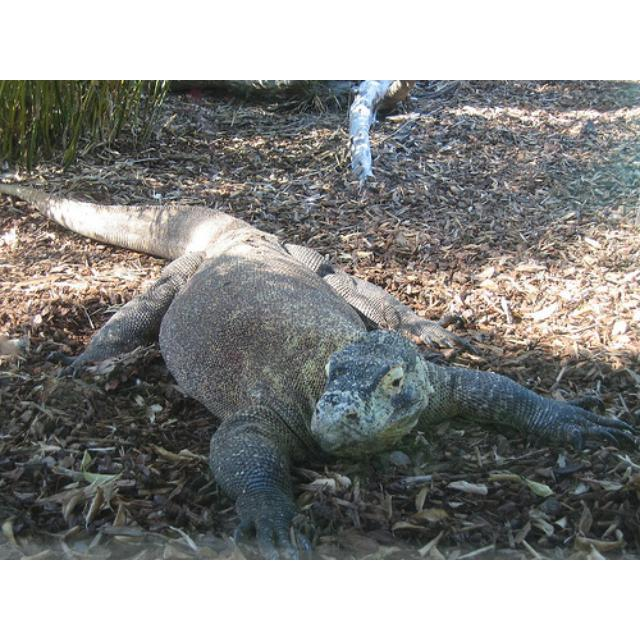KomodoDragon: (1, 179, 630, 557)
